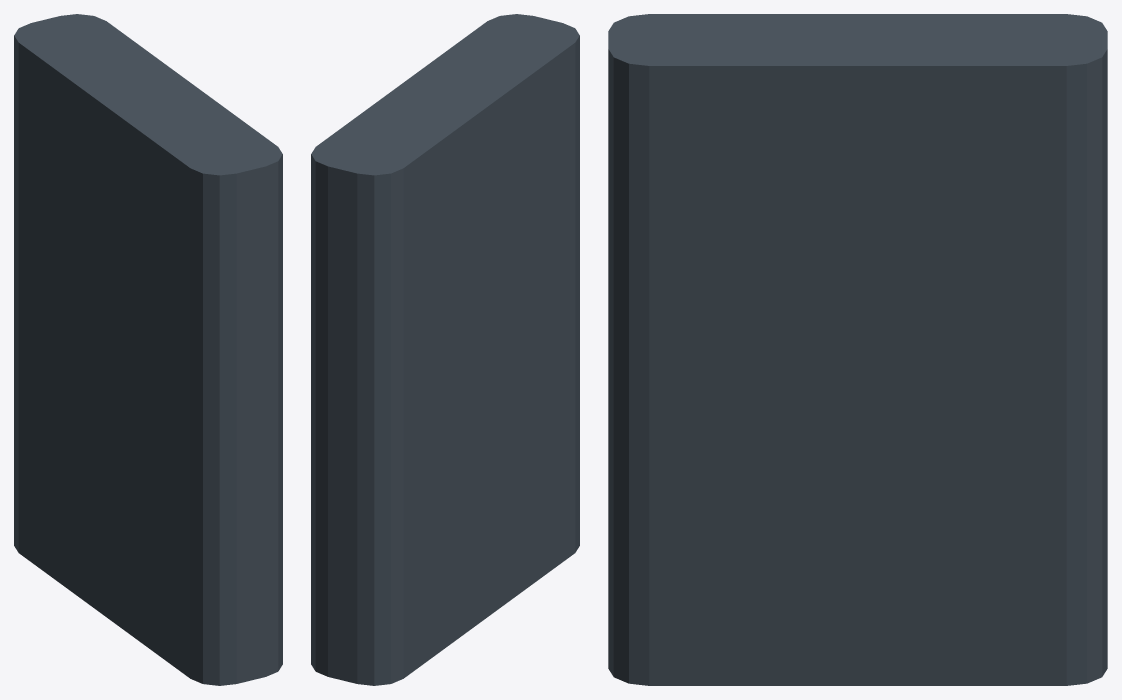
Rendered from Bridge_Anchor.gltf.
3 views of the same model, side by side, from view 1: azimuth 30°, elevation 25°; view 2: azimuth 150°, elevation 25°; view 3: azimuth 270°, elevation 25° (orthographic). The views are drawn at different scales.
Parts seen in each view (by area): view 1: Bridge_Anchor_baked; view 2: Bridge_Anchor_baked; view 3: Bridge_Anchor_baked.
Part boxes in pixels (x1,y1,x2,y2): Bridge_Anchor_baked: [14, 14, 282, 685]; Bridge_Anchor_baked: [311, 14, 579, 685]; Bridge_Anchor_baked: [608, 14, 1107, 685].
Size of the model in its own units: 0.18 by 1 by 0.73.
